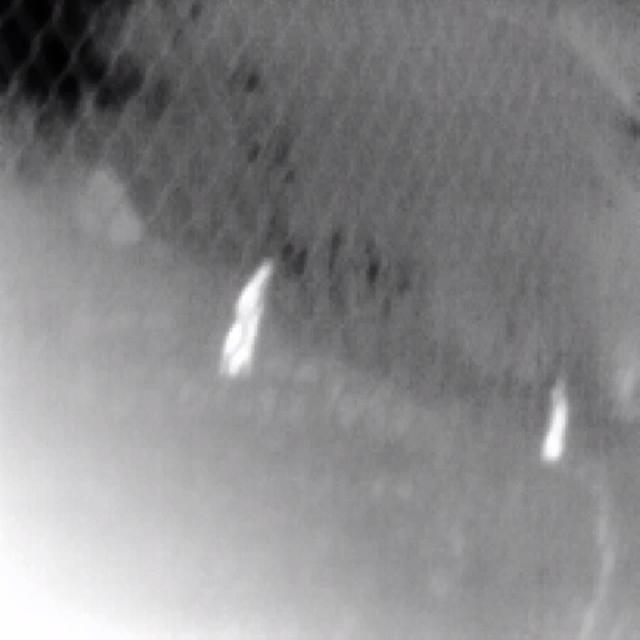cheetah: (222, 264, 271, 377), (544, 382, 568, 462)
